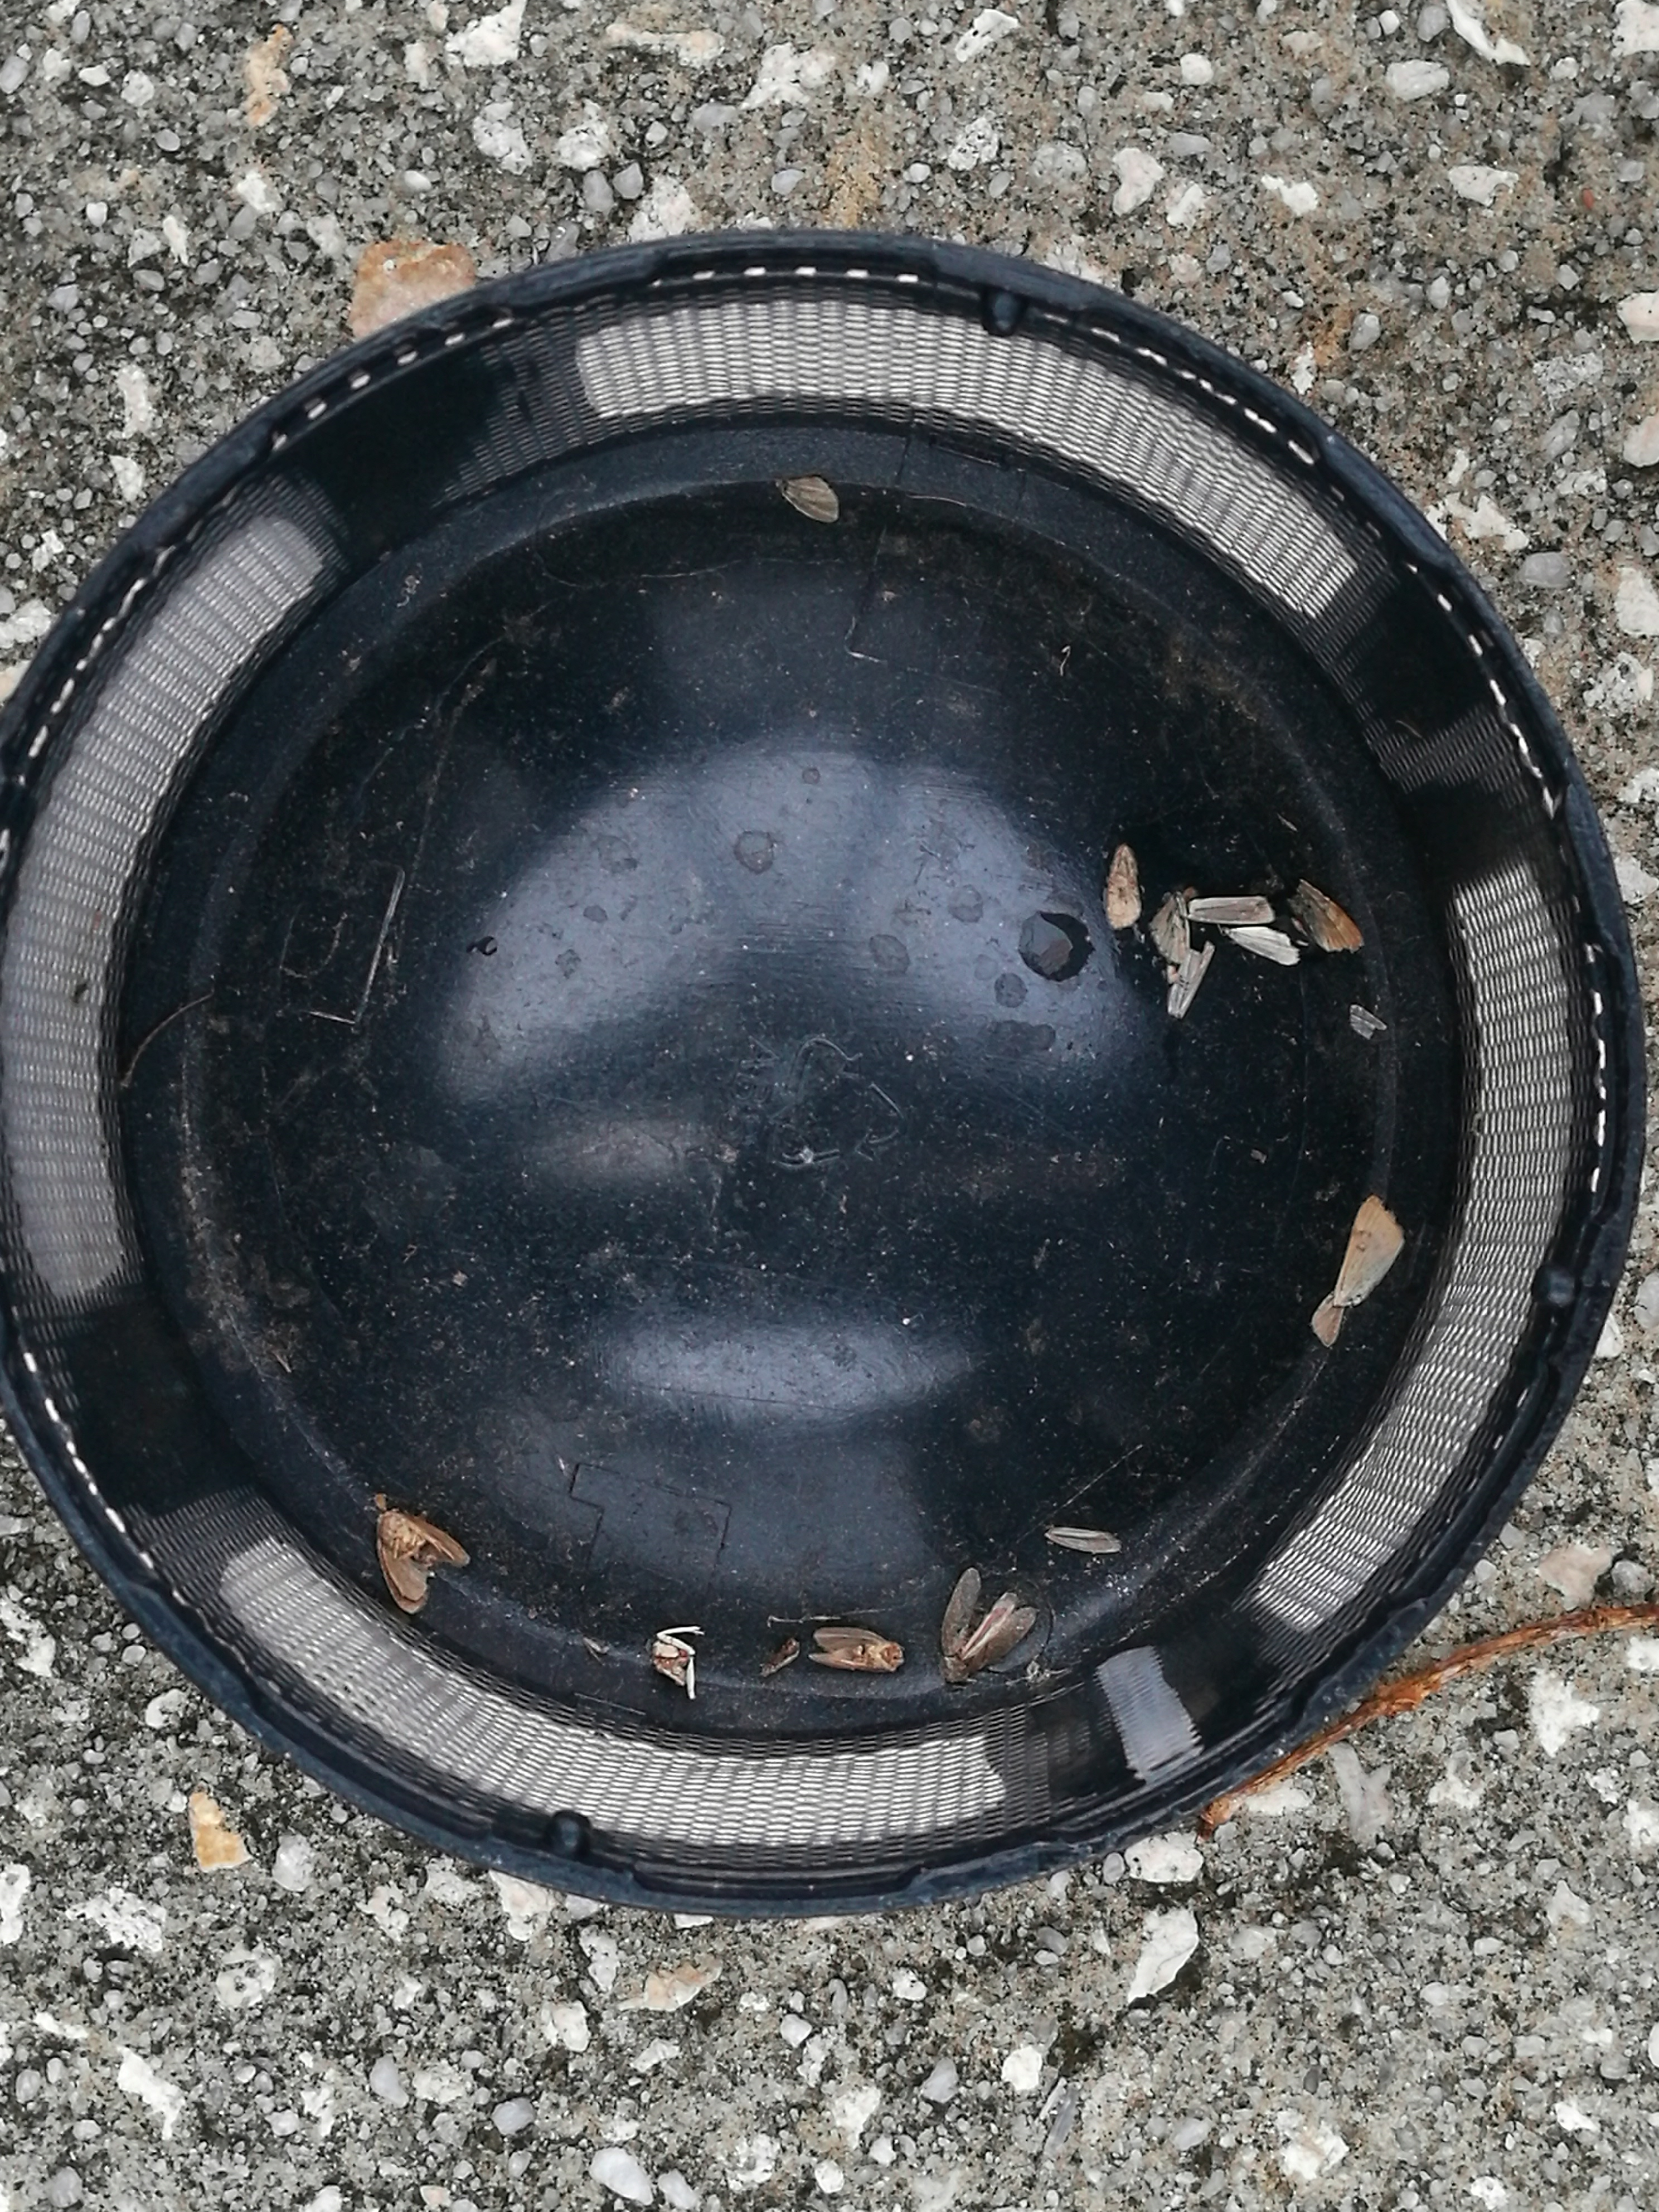moth: (941, 1568, 1033, 1683), (376, 1510, 471, 1613), (809, 1625, 904, 1674)
